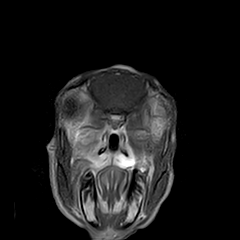Brain: (67, 37, 166, 135)
